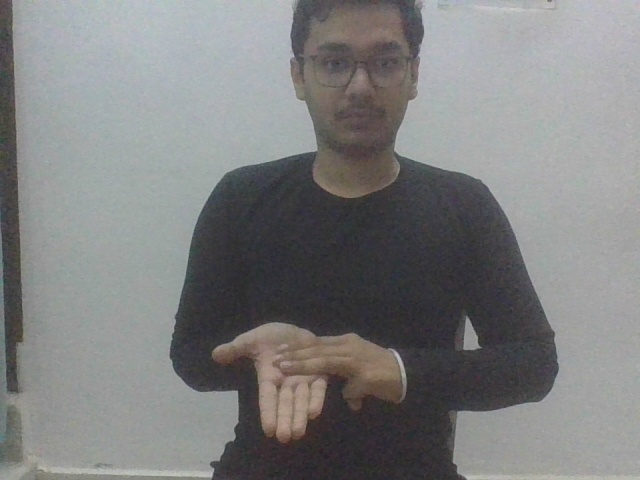M: (212, 322, 410, 445)
